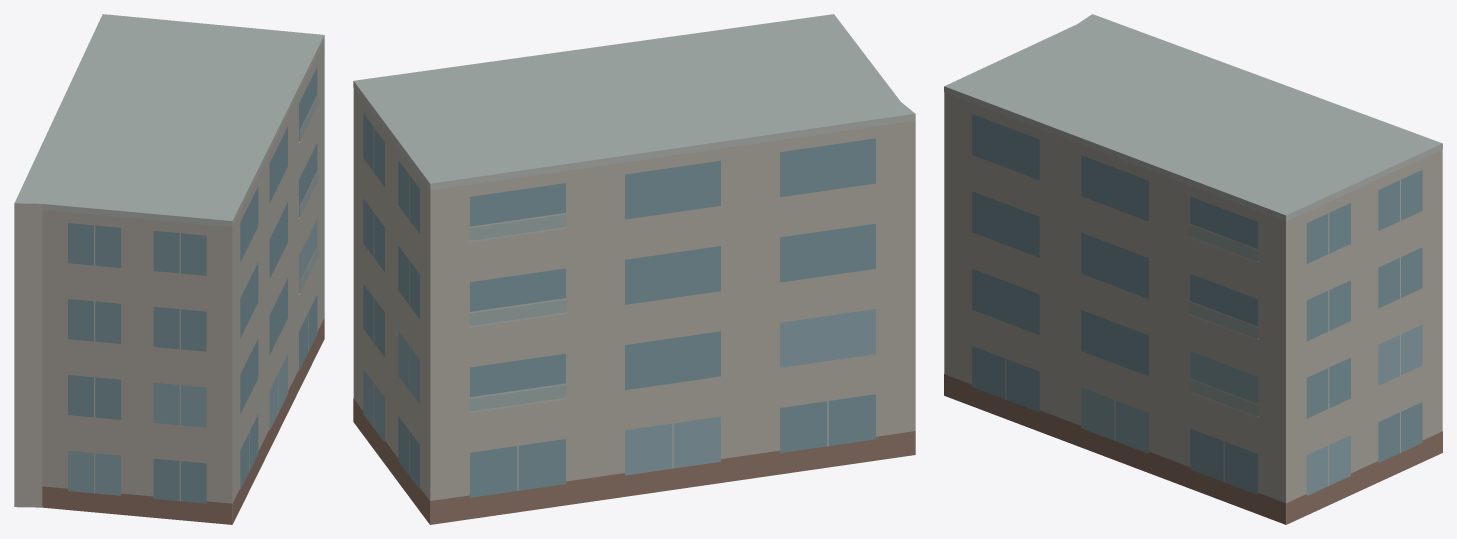
File: survey-upis-32925368.glb
3 views of the same model, side by side, from view 1: azimuth 30°, elevation 25°; view 2: azimuth 150°, elevation 25°; view 3: azimuth 270°, elevation 25° (orthographic). The views are drawn at different scales.
Visible parts, largest first — view 1: survey-upis-32925368.tmp; view 2: survey-upis-32925368.tmp; view 3: survey-upis-32925368.tmp.
Part boxes in pixels (box(x1,y1,x2,y2)): survey-upis-32925368.tmp: box(14, 14, 324, 524); survey-upis-32925368.tmp: box(353, 14, 915, 524); survey-upis-32925368.tmp: box(944, 14, 1442, 524).
Size of the model in its own units: 17.18 by 12.3 by 17.97.
